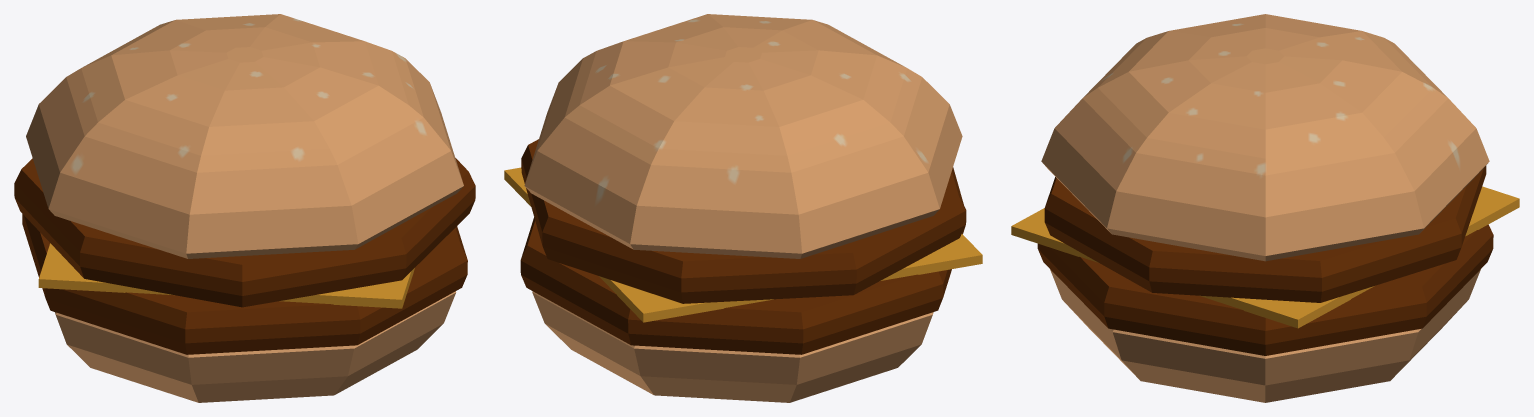
File: Hamburguer.fbx
3 views of the same model, side by side, from view 1: azimuth 30°, elevation 25°; view 2: azimuth 150°, elevation 25°; view 3: azimuth 270°, elevation 25° (orthographic).
Visible parts, largest first — view 1: Hamburger; view 2: Hamburger; view 3: Hamburger.
Boxes of the visible parts, x1,y1,x2,y2 form: Hamburger: [14, 14, 475, 402]; Hamburger: [504, 14, 982, 402]; Hamburger: [1011, 14, 1519, 402].
Bounding box in the file's own units: 133 × 78.42 × 133.
1 material, 1 textured.
